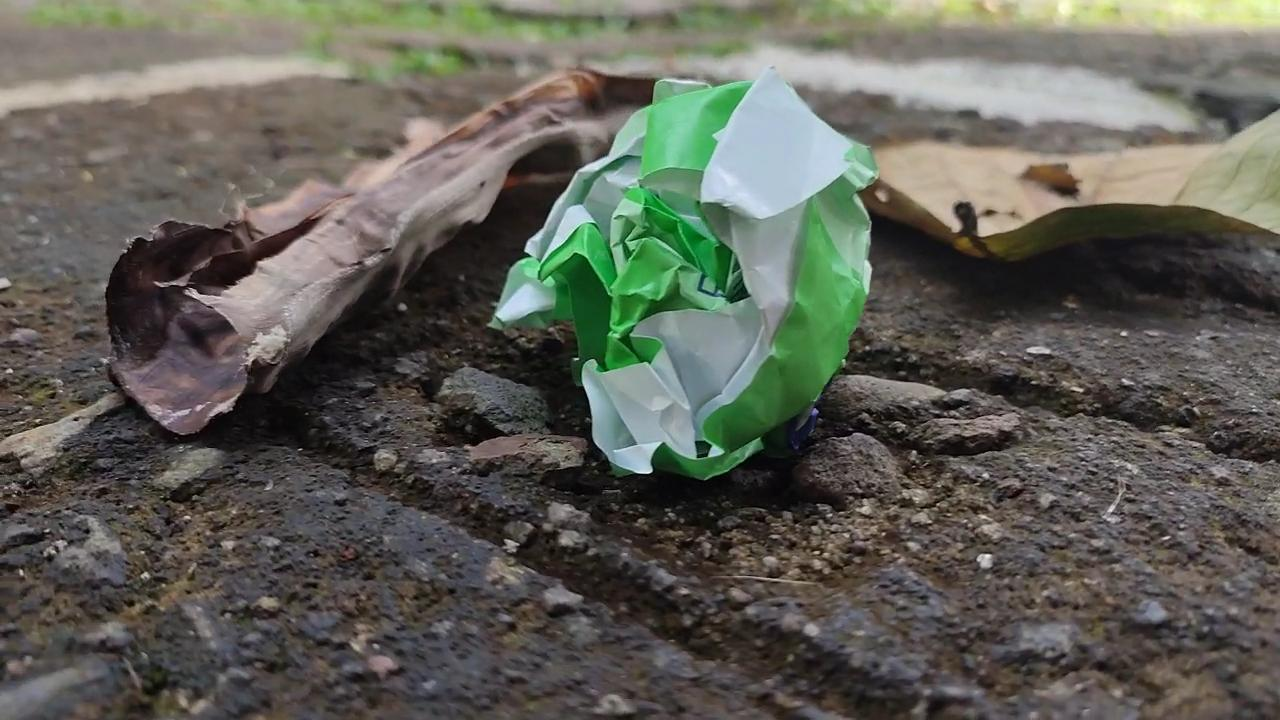Paper: (498, 63, 885, 487)
